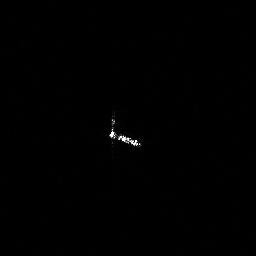ship: (107, 117, 143, 149)
